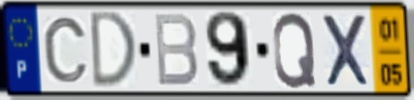9: (204, 9, 255, 92)
B: (152, 11, 201, 89)
C: (40, 14, 91, 86)
D: (89, 9, 140, 91)
Q: (270, 10, 318, 90)
X: (318, 11, 373, 89)
